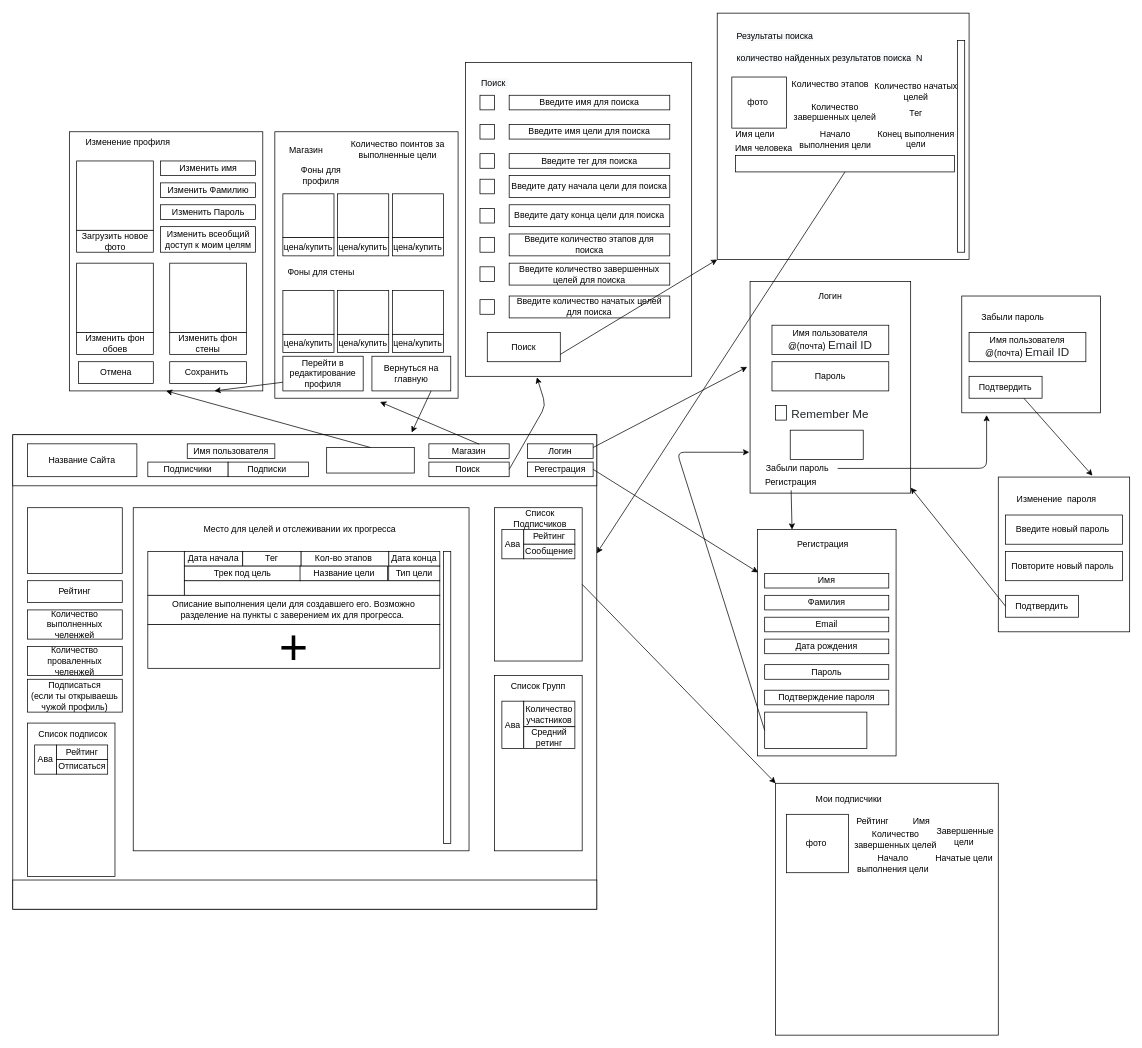
Some shapes in this 1142 by 1048 pixel diagram are drawn without their labels. Here are the shapes that lost their labels. From the top down, the centre of each, then its label:
At (844,163): "Перейти в профиль".
At (370,460): "Редактировать профиль".
At (826,444): "Вход".
At (74,540): "Фото профиля".
At (165,573): "Фото цели".
At (312,587): "Прогресс в %".
At (815,730): "Логин( сохранение и перенос в окно логина)".
At (304,894): "Создатели + всякие ссылки итд".
